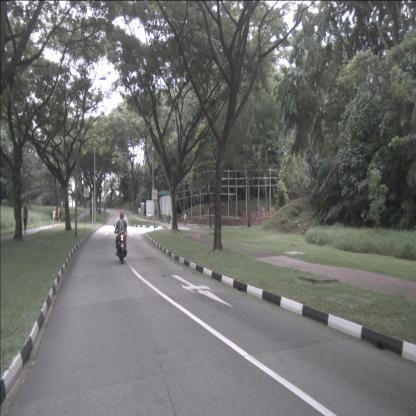human-pedestrian-adult: (22, 206, 28, 233), (52, 208, 56, 226), (57, 207, 61, 225), (184, 213, 188, 227), (168, 210, 170, 224)
vehicle-motorcycle: (114, 211, 128, 264)
